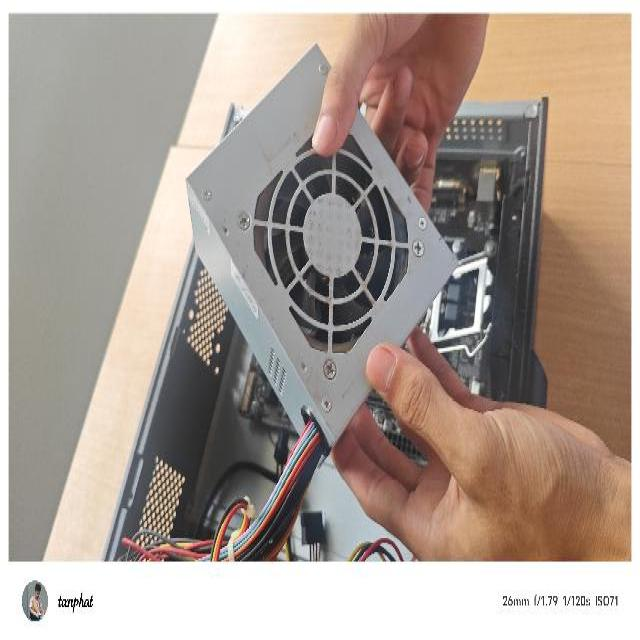PSU: (184, 34, 460, 457)
